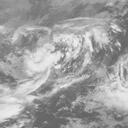cyclone: (17, 18, 110, 85)
